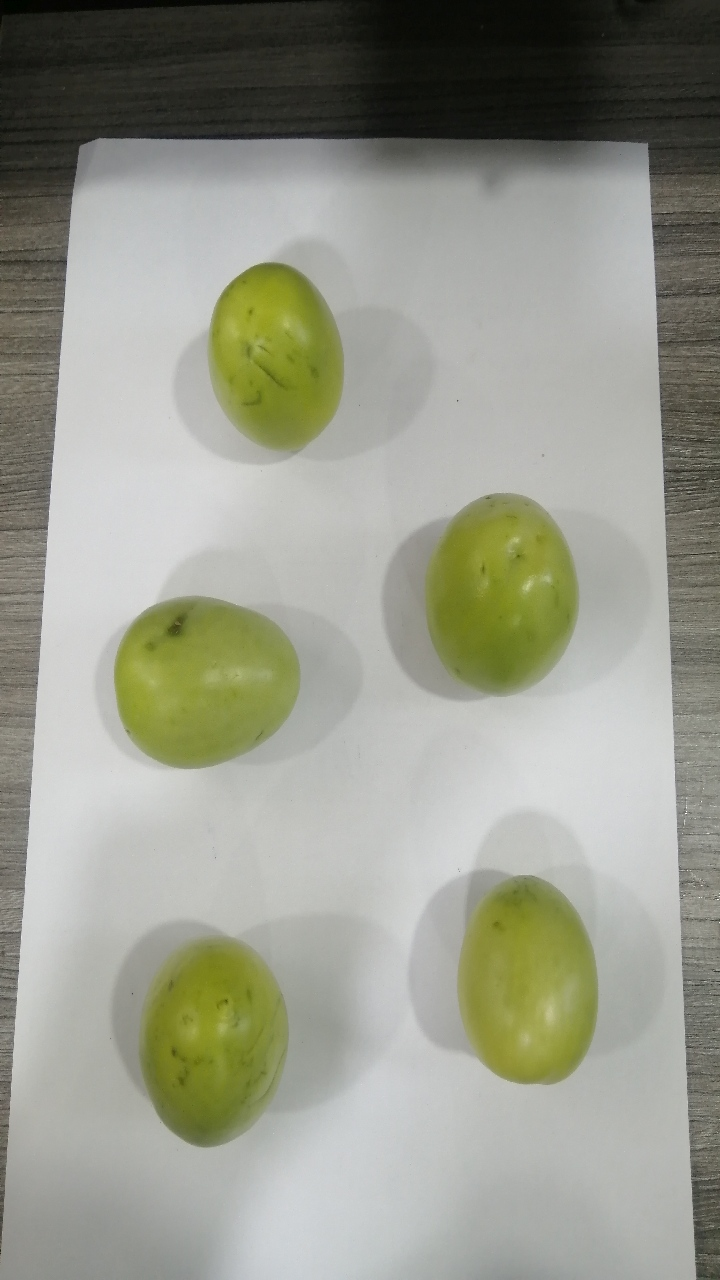tomateVerde: (408, 466, 617, 702), (106, 579, 328, 792), (124, 909, 301, 1168), (440, 857, 609, 1100), (195, 249, 378, 452)
